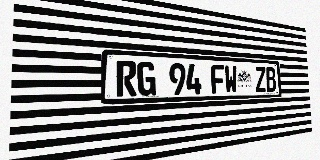4: (186, 63, 201, 95)
9: (169, 63, 186, 95)
B: (265, 67, 276, 92)
F: (211, 65, 225, 94)
G: (137, 61, 156, 96)
R: (116, 60, 137, 97)
W: (224, 65, 238, 93)
Z: (255, 67, 266, 92)
